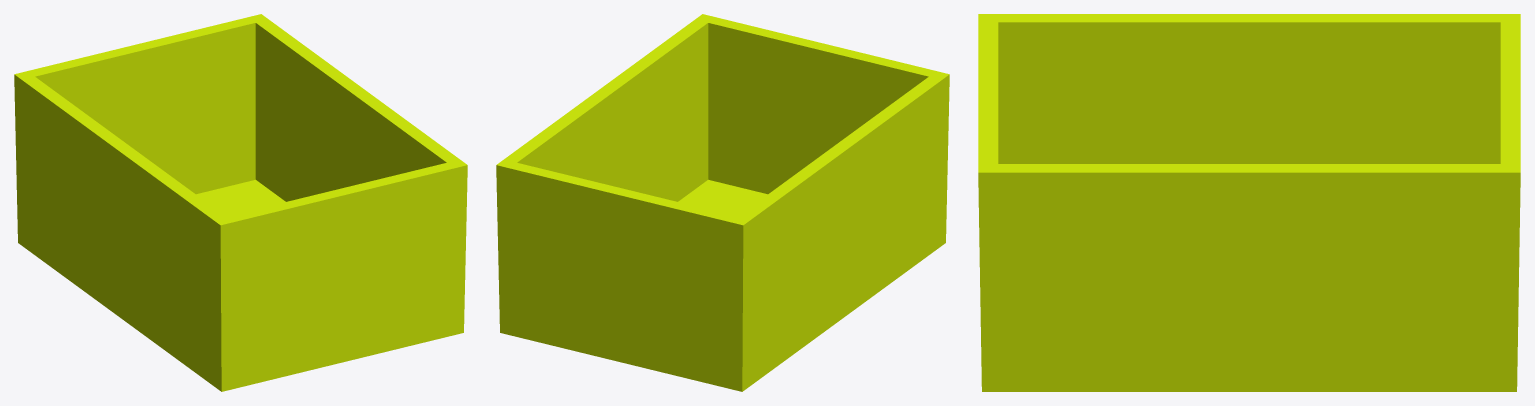
The model's file is Box_yellow.gltf.
3 views of the same model, side by side, from view 1: azimuth 30°, elevation 25°; view 2: azimuth 150°, elevation 25°; view 3: azimuth 270°, elevation 25° (orthographic). The views are drawn at different scales.
Parts seen in each view (by area): view 1: Box_blue; view 2: Box_blue; view 3: Box_blue.
Part boxes in pixels (bbox=[...]): Box_blue: bbox=[14, 14, 467, 391]; Box_blue: bbox=[496, 14, 949, 391]; Box_blue: bbox=[978, 14, 1520, 391].
Bounding box in the file's own units: 0.3359 × 0.2185 × 0.4859.
